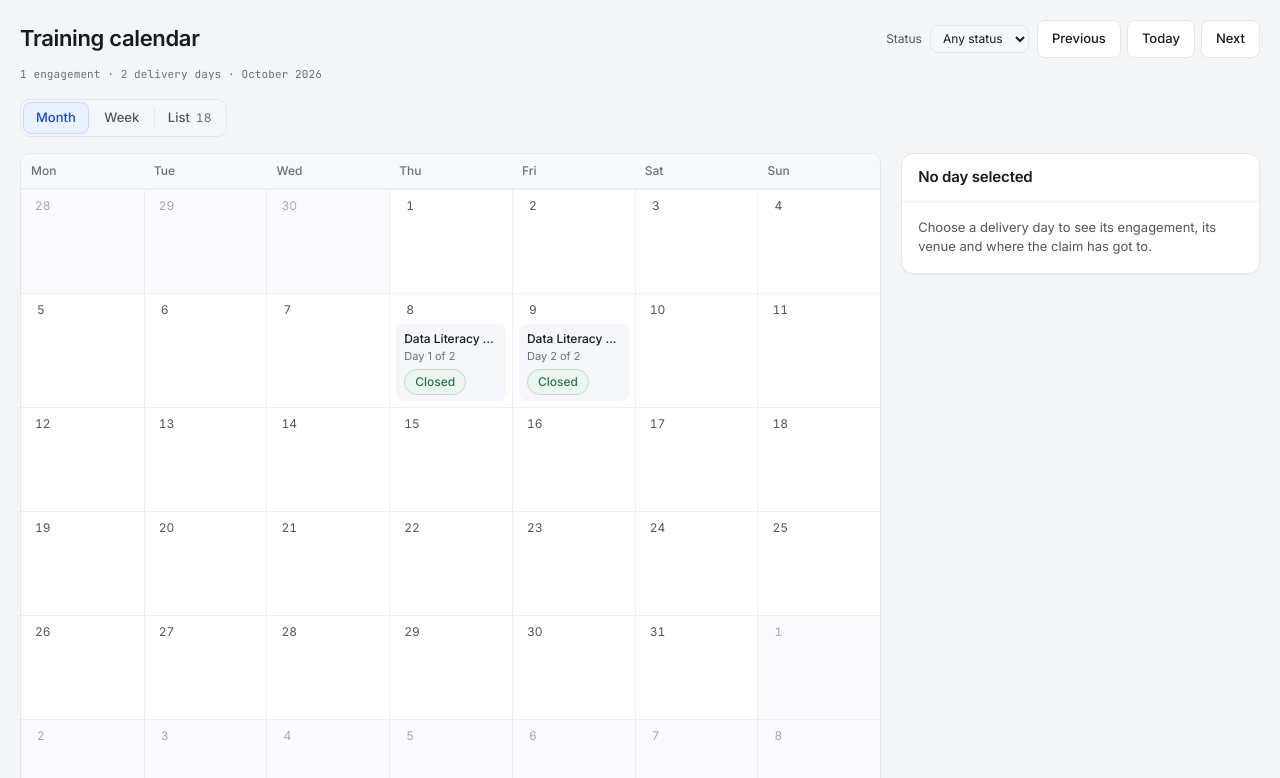
M-none · the training calendar › opens the day's engagement in the detail pane, with its lifecycle
Click the tab "List 18". click: (190,118)
box: [155, 102, 224, 134]
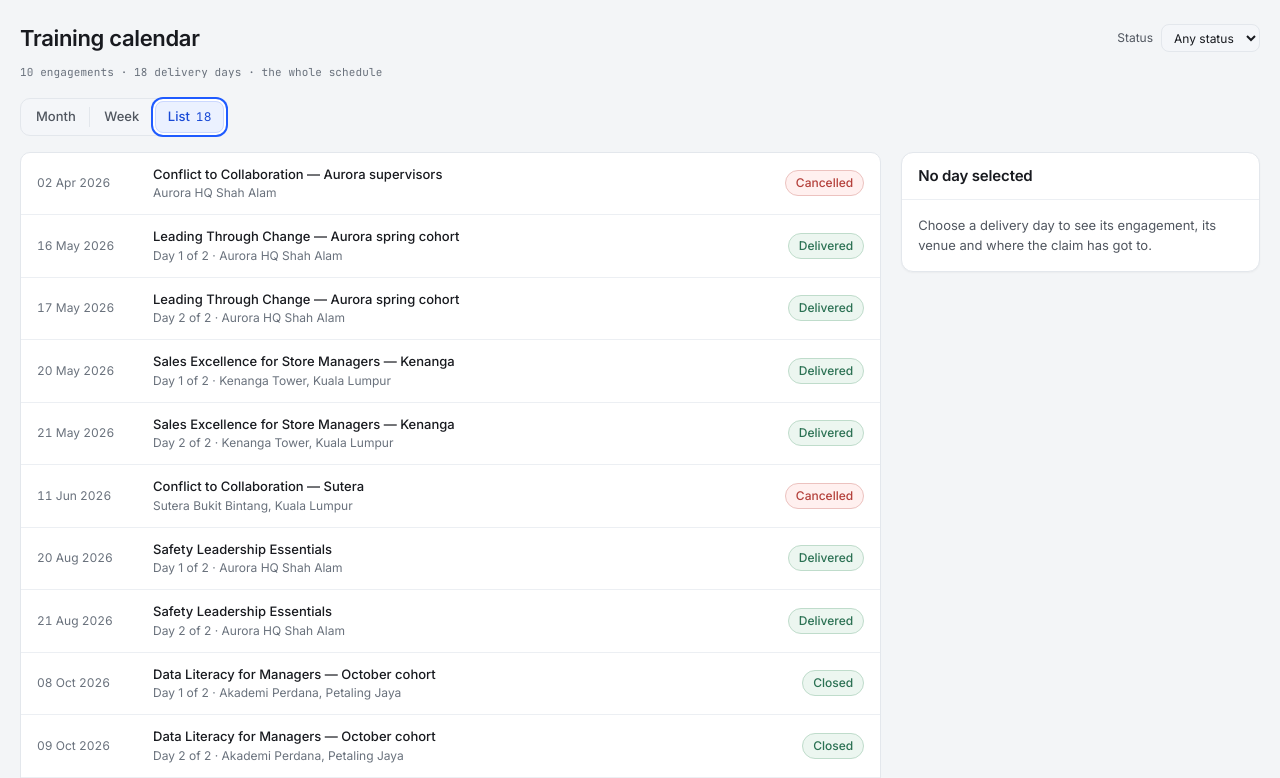
Click the button that starts with "02 Apr 2026". click: (74,183)
box: [21, 152, 880, 214]
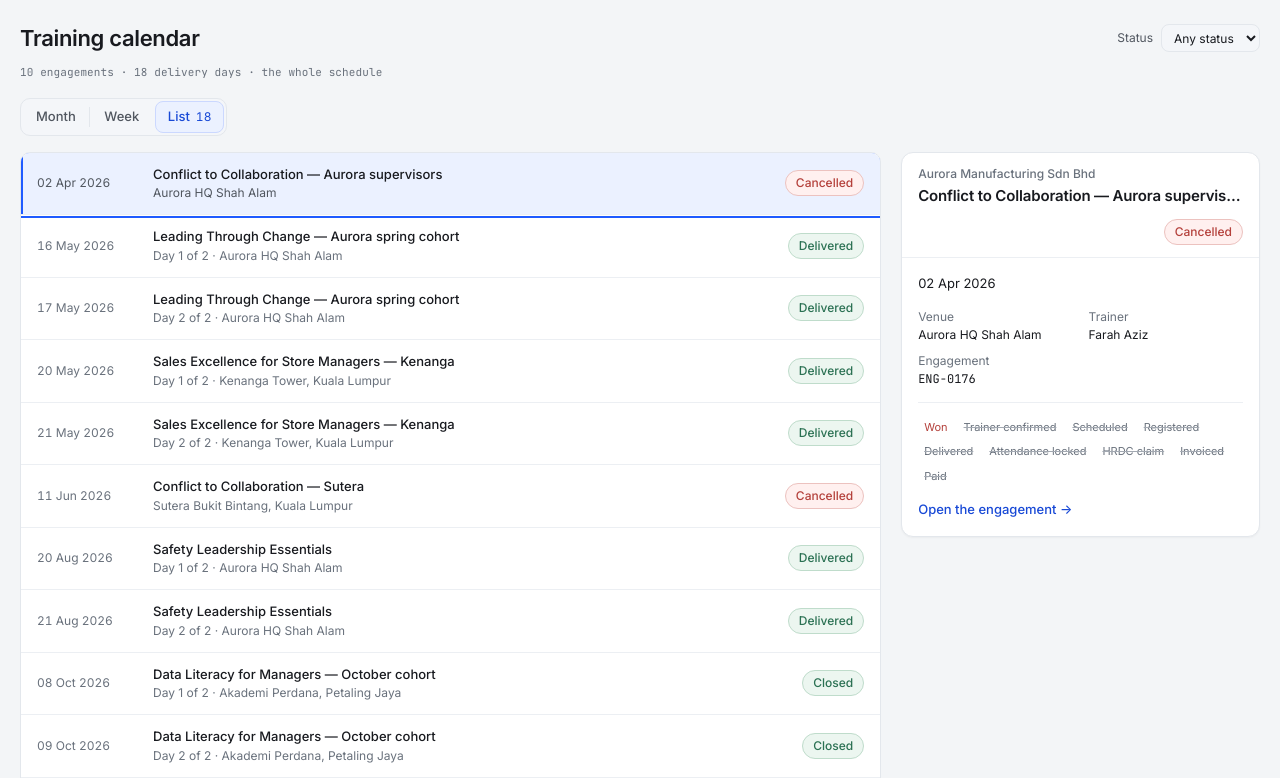
Result: the link "Open the engagement →" is shown at [918, 501, 1072, 517]
Result: the text "Trainer" is shown at [1089, 308, 1128, 324]
